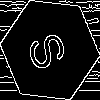S: (25, 25, 77, 74)
